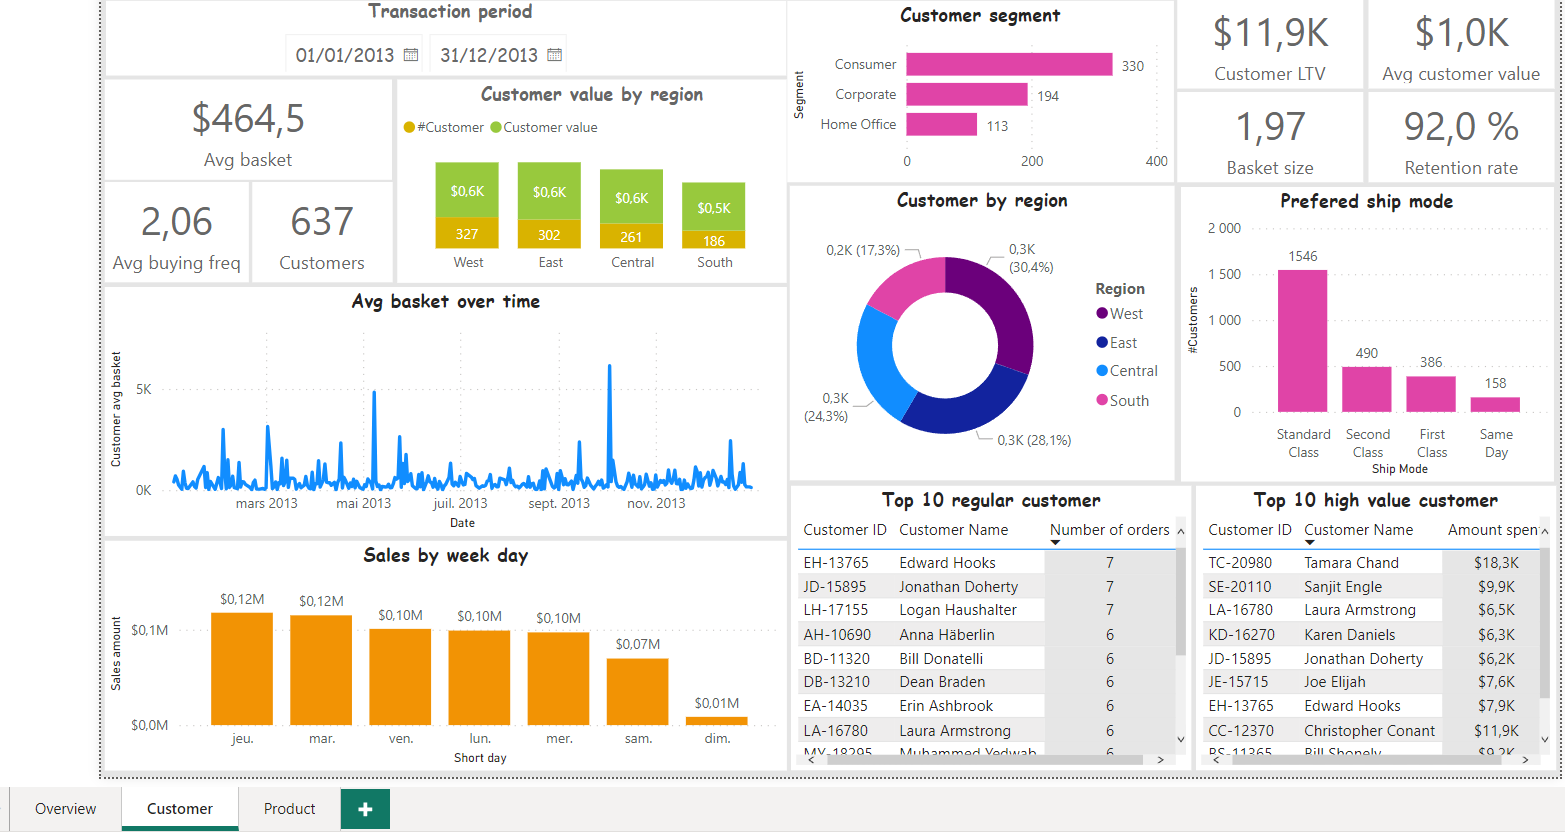

What the dashboard file says about the page in this screenshot:
{"tool":"powerbi","page":{"name":"Customer ","canvas":[1280,720],"ordinal":1},"visuals":[{"type":"tableEx","title":"Top 10 regular customer","fields":{"Values":["Superstore.Customer Name","Superstore.Order ID"]},"box":[870,38.6,221.4,247.1],"z":1},{"type":"tableEx","title":"Top 10 high value customer","fields":{"Values":["Superstore.Customer Name","Superstore.Sales"]},"box":[640,38.6,227.1,247.1],"z":2},{"type":"lineChart","title":"Avg basket over time","fields":{"Y":["Superstore.Customer avg basket"],"Category":["Superstore.Order Date"]},"box":[3.6,501.2,738.6,218.1],"z":5},{"type":"shape","box":[3.9,38.2,631.6,65.8],"z":6},{"type":"slicer","title":"Transaction period","fields":{"Values":["Superstore.Order Date"]},"box":[148.7,35.5,314.5,65.8],"z":7},{"type":"card","fields":{"Values":["Superstore.Customer avg basket"]},"box":[3.6,107.2,251.8,88],"z":8},{"type":"card","fields":{"Values":["Superstore.buying freq"]},"box":[3.6,197.6,126.5,88],"z":9},{"type":"donutChart","title":"Buying freq by Category","fields":{"Category":["Superstore.Category"],"Y":["Superstore.buying freq"]},"box":[333.7,289.2,408.4,209.6],"z":10},{"type":"donutChart","title":"Buying freq by Segment","fields":{"Category":["Superstore.Segment"],"Y":["Superstore.buying freq"]},"box":[0,289.2,331.3,209.6],"z":11},{"type":"barChart","title":"Buying freq by region","fields":{"Category":["Superstore.Region"],"Y":["Superstore.buying freq"]},"box":[257.8,107.2,378.3,178.3],"z":12},{"type":"card","fields":{"Values":["Superstore.Customer ID"]},"box":[132.5,197.6,122.9,88],"z":13},{"type":"card","fields":{"Values":["Superstore.Basket length"]},"box":[1094.3,38.6,185.7,125.7],"z":14},{"type":"columnChart","title":"Sales by week day","fields":{"Category":["Superstore.Day Name"],"Y":["Superstore.Sales"]},"box":[745.7,291.4,532.9,427.1],"z":15},{"type":"card","fields":{"Values":["Superstore.Cross-sell"]},"box":[1094.3,167.1,184.3,121.4],"z":16}]}

Visuals, with their boxes on the page's 1280x720 design canvas (x1, y1, x2, y2). These are canvas units, not pixel positions in the 1565x832 screenshot, which may show the page scaled, cropped or inside an application window:
"Top 10 regular customer" tableEx: box(870, 39, 1091, 286)
"Top 10 high value customer" tableEx: box(640, 39, 867, 286)
"Avg basket over time" lineChart: box(4, 501, 742, 719)
shape: box(4, 38, 636, 104)
"Transaction period" slicer: box(149, 36, 463, 101)
card - Superstore.Customer avg basket: box(4, 107, 255, 195)
card - Superstore.buying freq: box(4, 198, 130, 286)
"Buying freq by Category" donutChart: box(334, 289, 742, 499)
"Buying freq by Segment" donutChart: box(0, 289, 331, 499)
"Buying freq by region" barChart: box(258, 107, 636, 286)
card - Superstore.Customer ID: box(132, 198, 255, 286)
card - Superstore.Basket length: box(1094, 39, 1280, 164)
"Sales by week day" columnChart: box(746, 291, 1279, 718)
card - Superstore.Cross-sell: box(1094, 167, 1279, 288)
